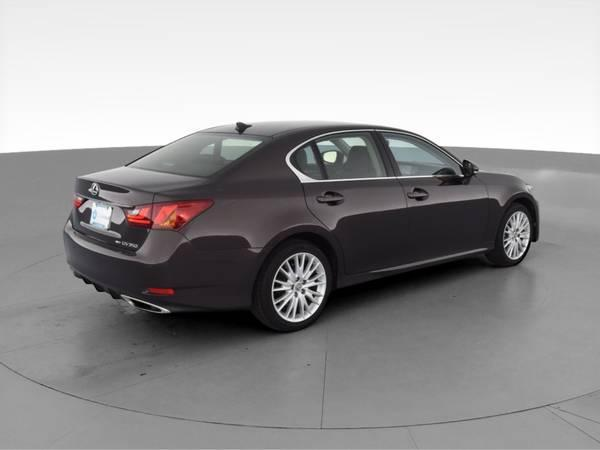Front_Fender: (477, 170, 537, 247)
Front_Right_Door: (398, 174, 491, 270)
Front_Right_Window: (371, 131, 473, 179)
Rear_Bumper: (61, 216, 266, 311)
Rear_Fender: (154, 177, 319, 252)
Rear_Right_Door: (303, 179, 410, 281)
Rear_Right_Window: (284, 130, 393, 183)
Rear_Windshield: (122, 133, 268, 179)
Right_Taillight: (122, 197, 214, 229)
Roof: (198, 119, 473, 179)
Tailgate: (70, 163, 212, 251)
Wheel: (256, 245, 335, 329), (500, 206, 536, 261)
